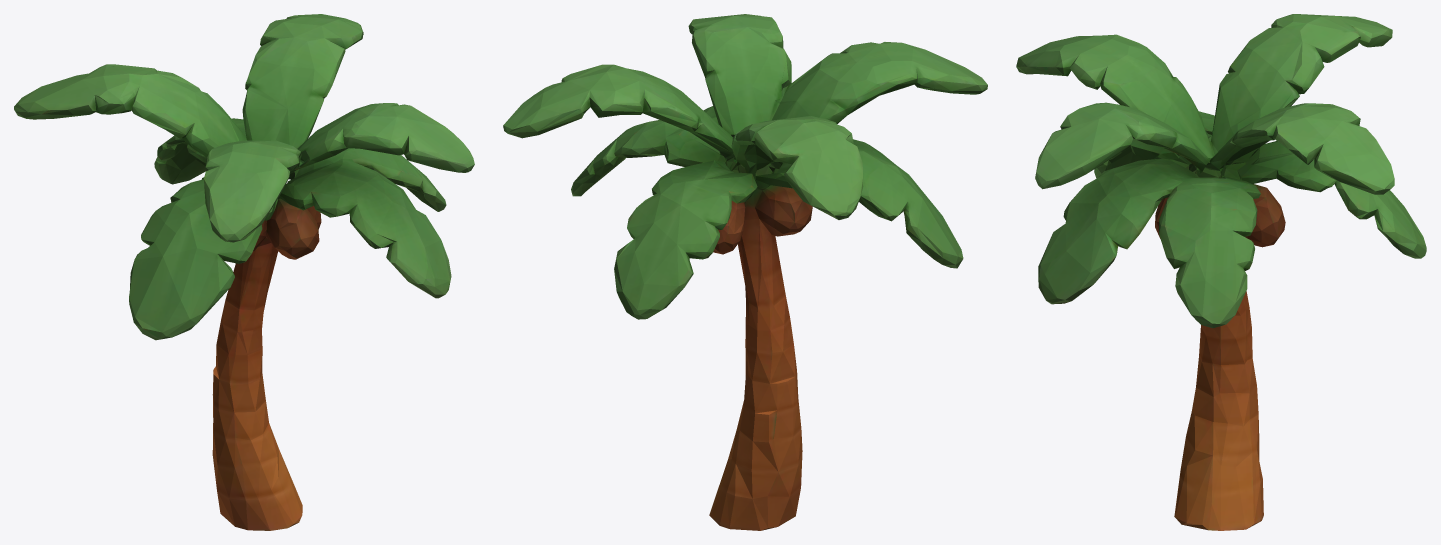
File: palm.glb
3 renders of one model, left to right at view 1: azimuth 30°, elevation 25°; view 2: azimuth 150°, elevation 25°; view 3: azimuth 270°, elevation 25°, orthographic. The views are drawn at different scales.
Visible parts, largest first — view 1: geometry_0; view 2: geometry_0; view 3: geometry_0.
Boxes of the visible parts, x1,y1,x2,y2 form: geometry_0: [14, 14, 474, 530]; geometry_0: [503, 14, 987, 530]; geometry_0: [1016, 14, 1426, 530].
Bounding box in the file's own units: 0.7959 × 0.9464 × 0.7857.
Materials: 1 (1 with a texture image).
